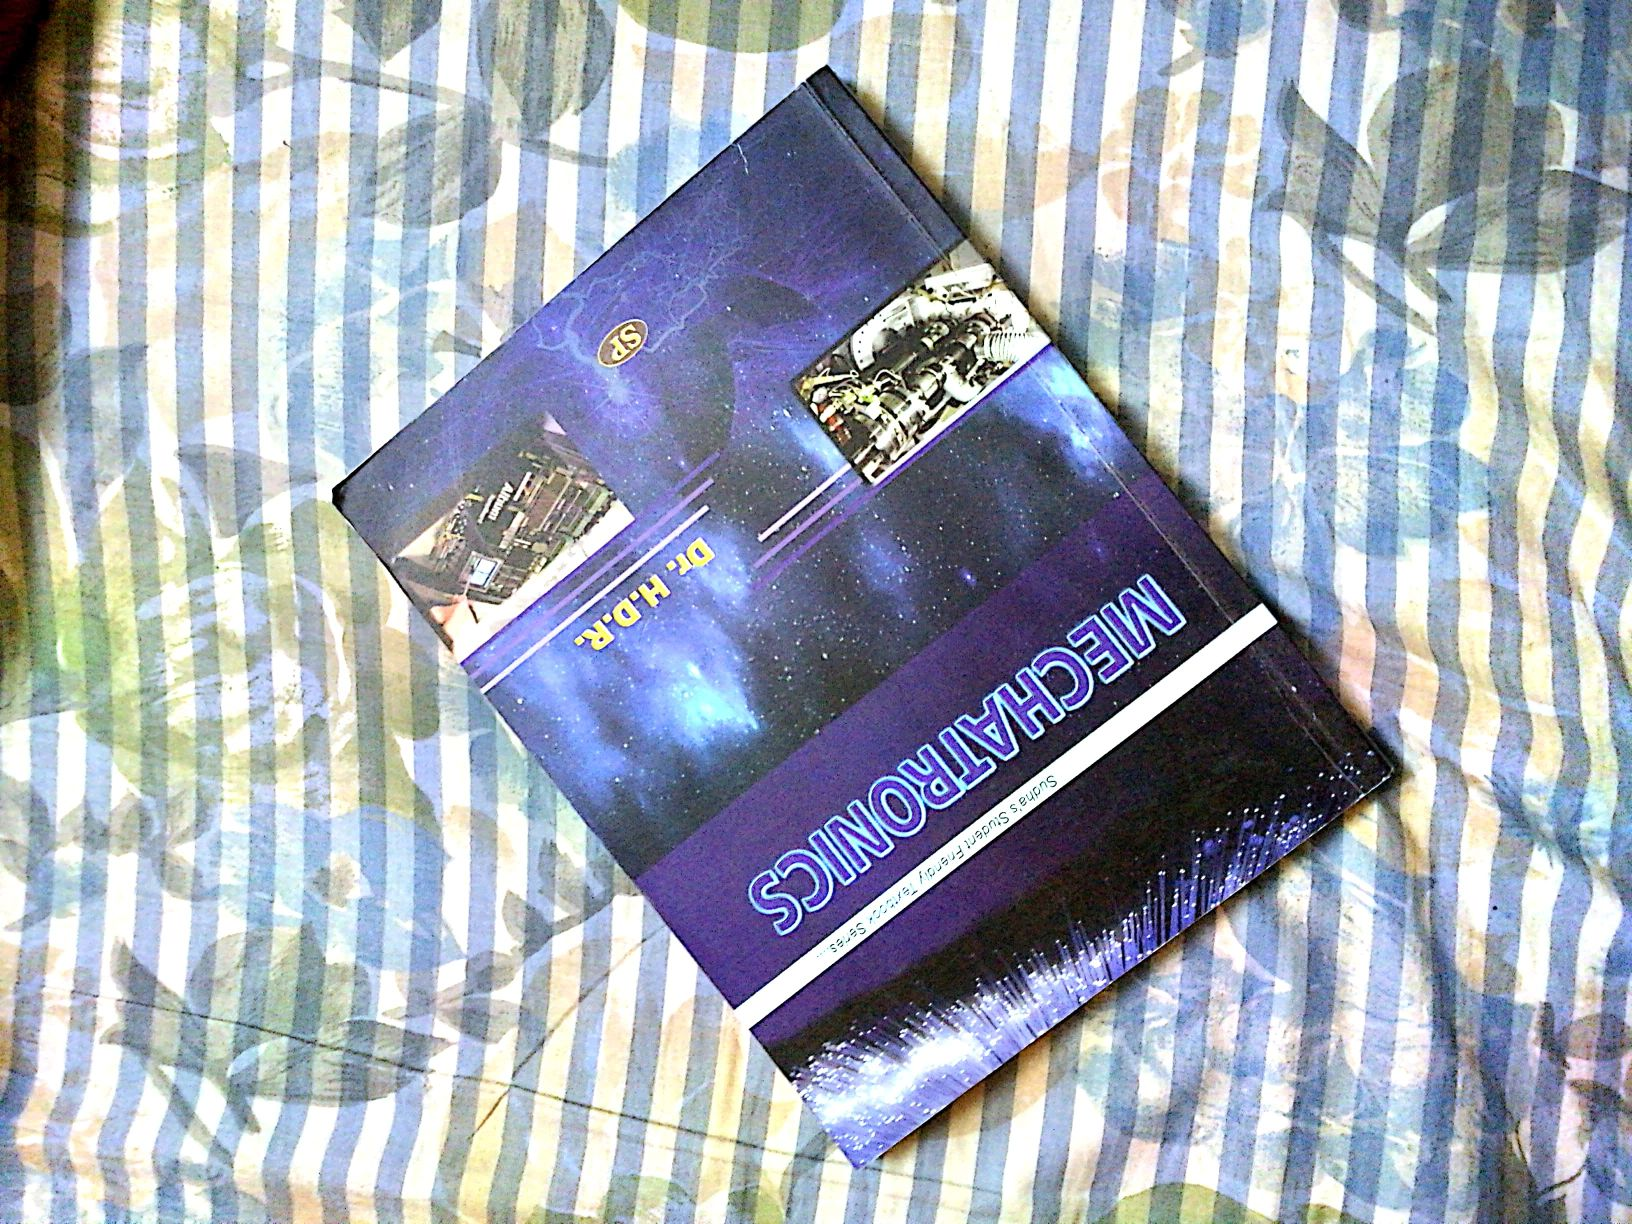mechatronics: (326, 96, 1361, 1201)
